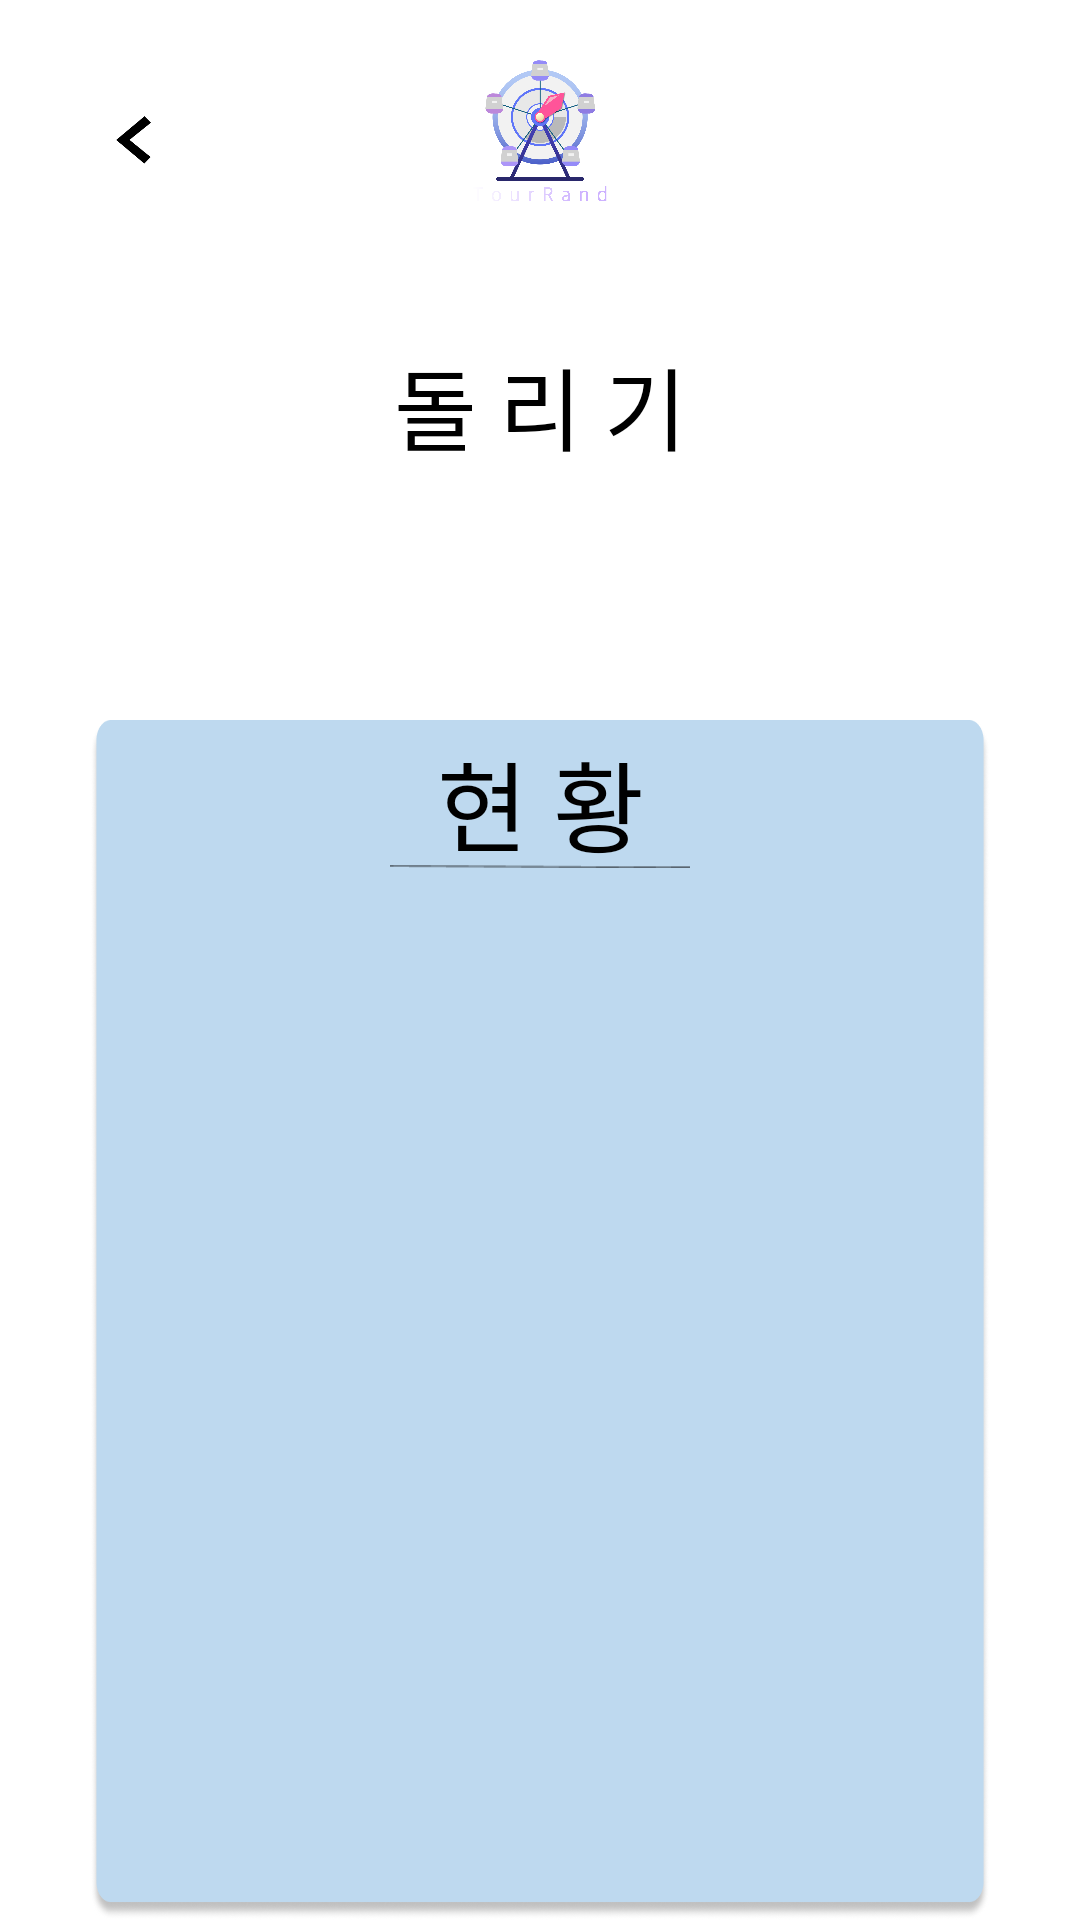

Where to tap for icons on this 1080x1920 app screen, as (x,y):
backbut: (133,140)
